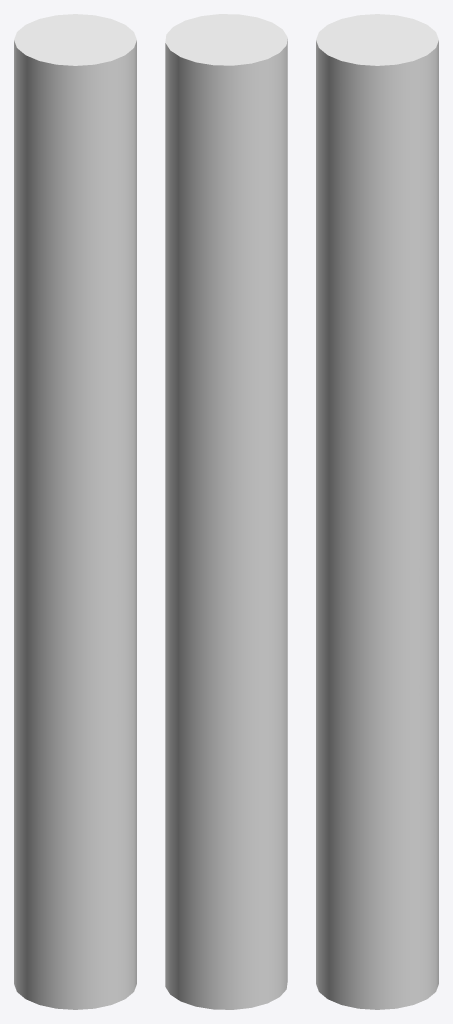
File: gizmoMoveY.fbx
3 views of the same model, side by side, from view 1: azimuth 90°, elevation 25°; view 2: azimuth 150°, elevation 25°; view 3: azimuth 270°, elevation 25° (orthographic).
Visible parts, largest first — view 1: gizmoMoveY; view 2: gizmoMoveY; view 3: gizmoMoveY.
Part boxes in pixels (x1,y1,x2,y2): gizmoMoveY: (14,14,136,1009); gizmoMoveY: (165,14,287,1009); gizmoMoveY: (316,14,438,1009).
Size of the model in its own units: 3.6 by 30.49 by 3.6.
Materials: 1 (1 with a texture image).
